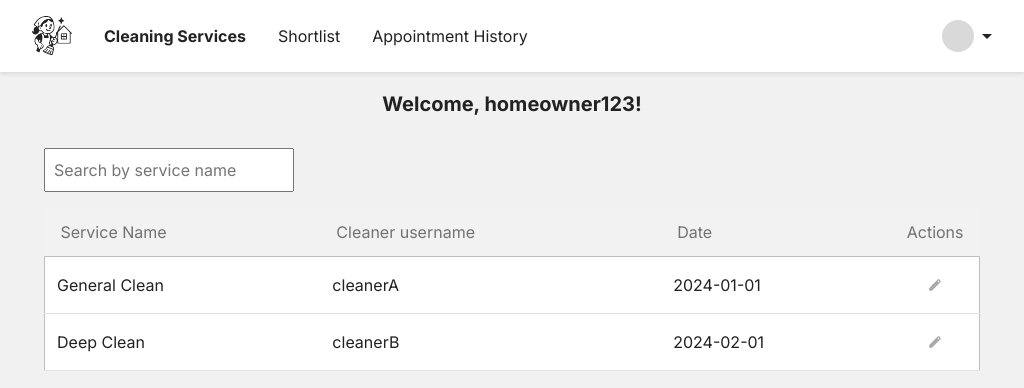
Scenario: HomeownerHistoryManagementUI – View & Search History › filters history services based on search input
Check: the number of rows with test id "service-row" is 2, box x1=44 y1=256 x2=980 y2=314; x1=44 y1=314 x2=980 y2=370
Type "Deep" into the field with placeholder "Search by service name" at (169, 170), box x1=44 y1=148 x2=294 y2=192
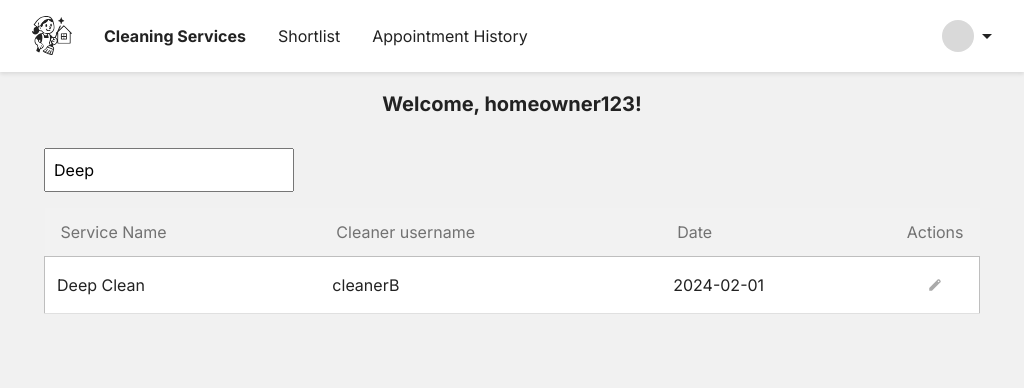
Check: the number of rows with test id "service-row" is 1, box x1=44 y1=256 x2=980 y2=314
Check: the row with test id "service-row" shows "Deep Clean", box x1=57 y1=275 x2=145 y2=295
